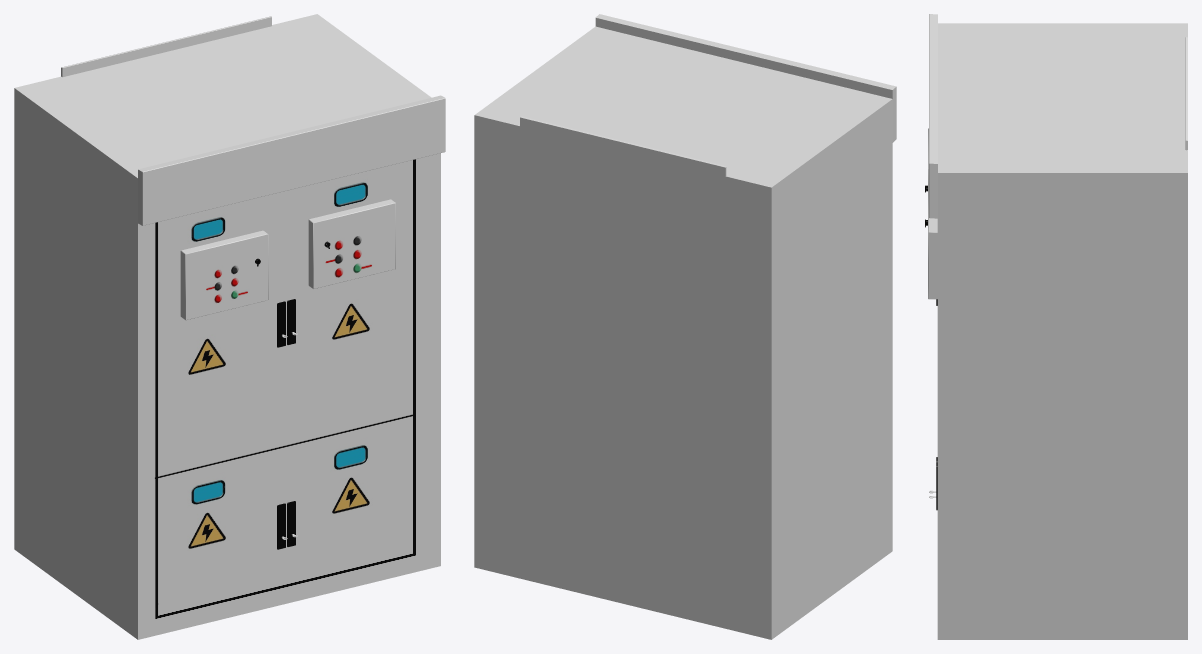
The model's file is distributionBox.gltf.
3 views of the same model, side by side, from view 1: azimuth 30°, elevation 25°; view 2: azimuth 150°, elevation 25°; view 3: azimuth 270°, elevation 25° (orthographic). The views are drawn at different scales.
Parts seen in each view (by area): view 1: Distribution Box; view 2: Distribution Box; view 3: Distribution Box.
Part boxes in pixels (x1,y1,x2,y2): Distribution Box: (14, 14, 445, 639); Distribution Box: (474, 14, 896, 639); Distribution Box: (925, 14, 1187, 639).
Size of the model in its own units: 150 by 223 by 111.
1 material, 1 textured.
